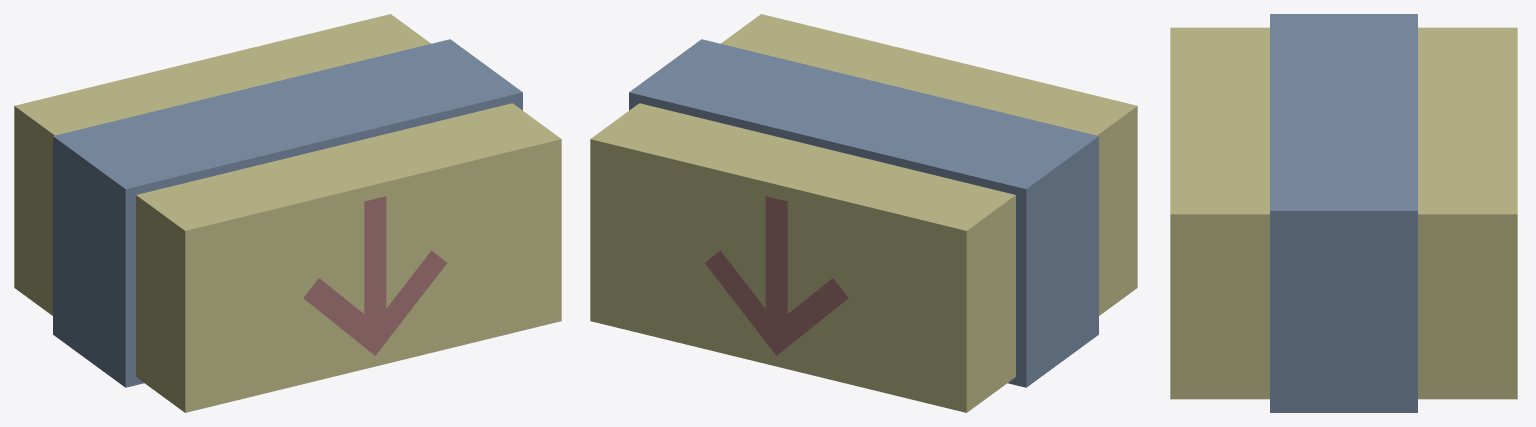
Rendered from SM_DoorLight_Basic_00.fbx.
3 renders of one model, left to right at view 1: azimuth 30°, elevation 25°; view 2: azimuth 150°, elevation 25°; view 3: azimuth 270°, elevation 25°, orthographic.
Parts seen in each view (by area): view 1: DoorLight_Basic_00; view 2: DoorLight_Basic_00; view 3: DoorLight_Basic_00.
Boxes of the visible parts, x1=… form: DoorLight_Basic_00: x1=14, y1=14, x2=561, y2=412; DoorLight_Basic_00: x1=590, y1=14, x2=1137, y2=412; DoorLight_Basic_00: x1=1170, y1=14, x2=1517, y2=412.
Bounding box in the file's own units: 37.88 × 18.09 × 28.84.
